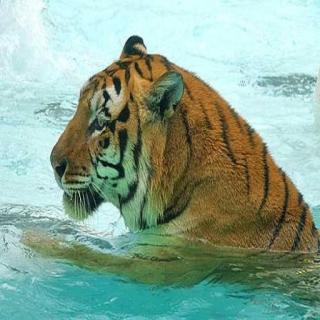Tiger: (36, 26, 320, 279)
